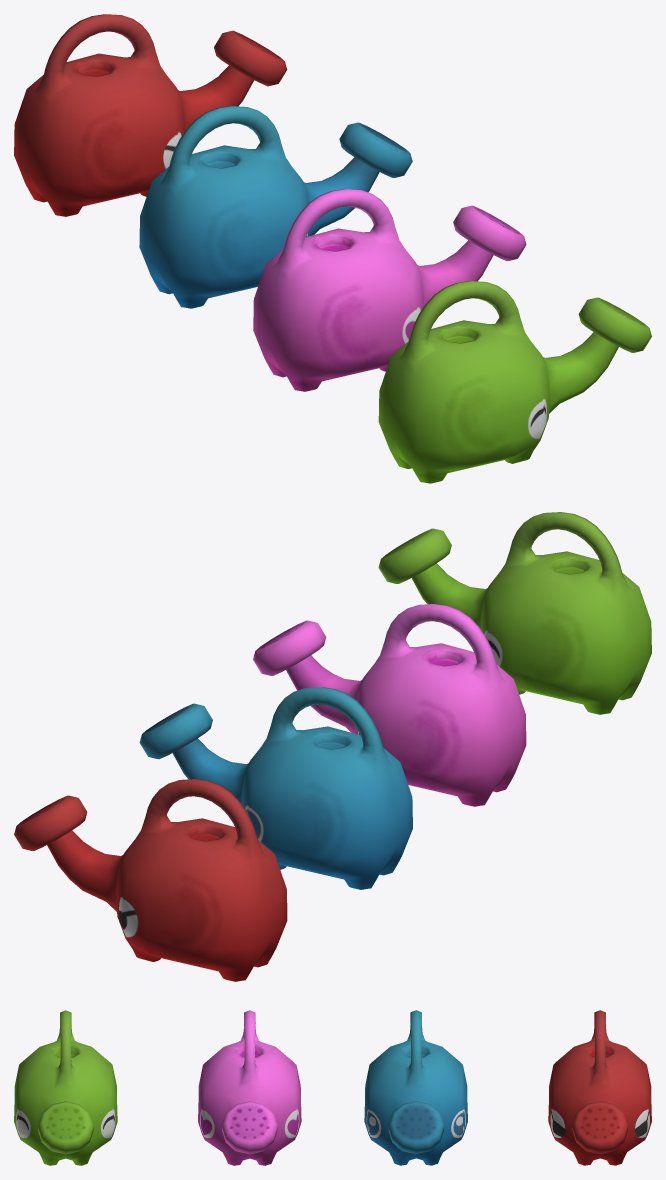
File: WateringCan_ACNH1.fbx
The picture shows the model from 3 angles, top to bottom: view 1: azimuth 30°, elevation 25°; view 2: azimuth 150°, elevation 25°; view 3: azimuth 270°, elevation 25°; orthographic projection. The views are drawn at different scales.
Parts seen in each view (by area): view 1: Elephant Watering Can.004, Elephant Watering Can.005, Elephant Watering Can.001, Elephant Watering Can; view 2: Elephant Watering Can.001, Elephant Watering Can, Elephant Watering Can.004, Elephant Watering Can.005; view 3: Elephant Watering Can.004, Elephant Watering Can, Elephant Watering Can.001, Elephant Watering Can.005.
Boxes of the visible parts, left/top/right/bottom form: Elephant Watering Can.004: left=378, top=281, right=651, bottom=483; Elephant Watering Can.005: left=253, top=189, right=526, bottom=391; Elephant Watering Can.001: left=14, top=14, right=287, bottom=216; Elephant Watering Can: left=139, top=106, right=412, bottom=308; Elephant Watering Can.001: left=14, top=779, right=287, bottom=981; Elephant Watering Can: left=139, top=687, right=412, bottom=889; Elephant Watering Can.004: left=378, top=512, right=651, bottom=714; Elephant Watering Can.005: left=253, top=604, right=526, bottom=806; Elephant Watering Can.004: left=14, top=1010, right=117, bottom=1165; Elephant Watering Can: left=364, top=1010, right=467, bottom=1165; Elephant Watering Can.001: left=548, top=1010, right=651, bottom=1165; Elephant Watering Can.005: left=198, top=1010, right=301, bottom=1165.
Bounding box in the file's own units: 4069 × 2780 × 12138.
